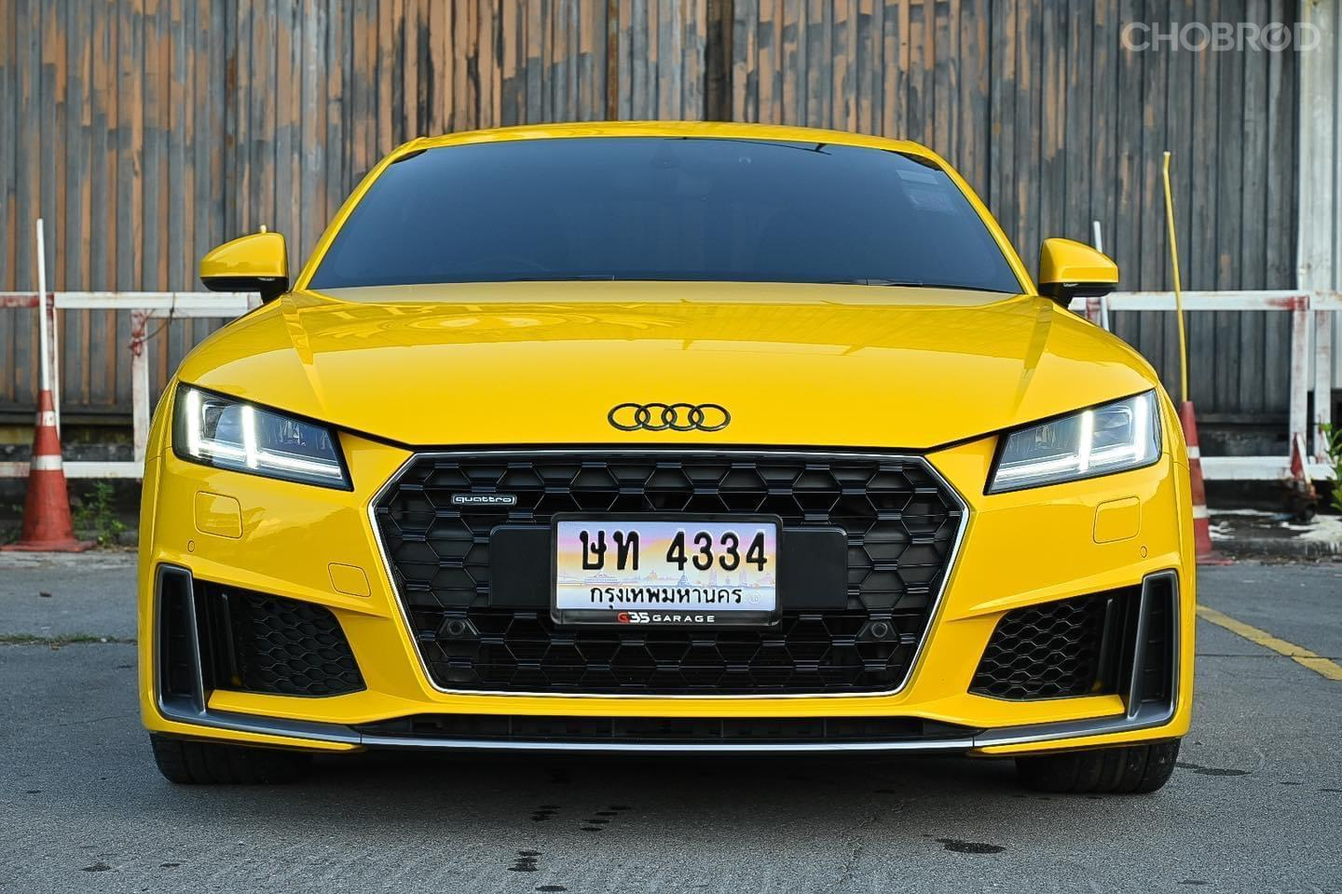license-plate: (546, 515, 787, 628)
